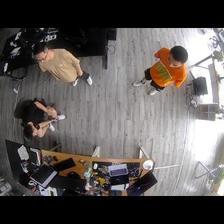normal: (132, 38, 187, 95), (34, 41, 92, 88), (15, 95, 65, 138)
